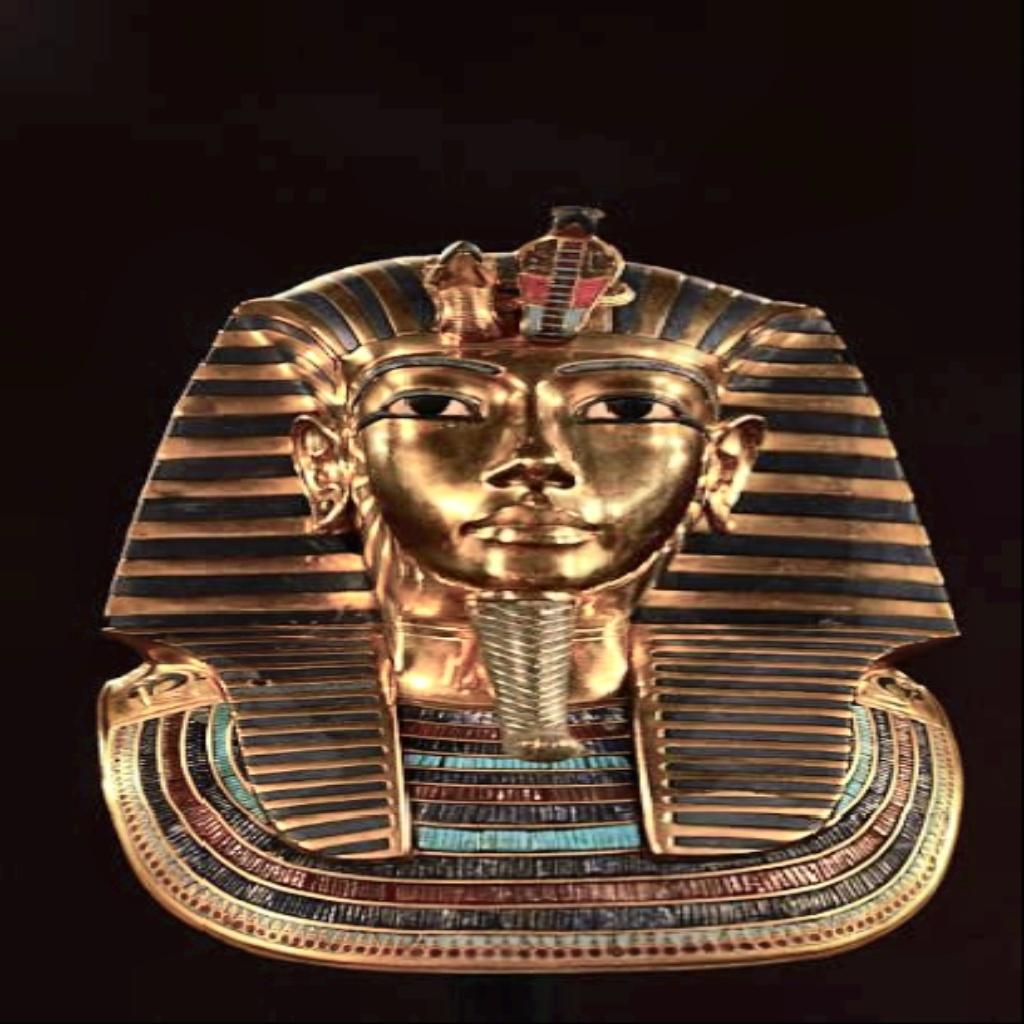Mask of Tutankhamun: (93, 202, 966, 976)
